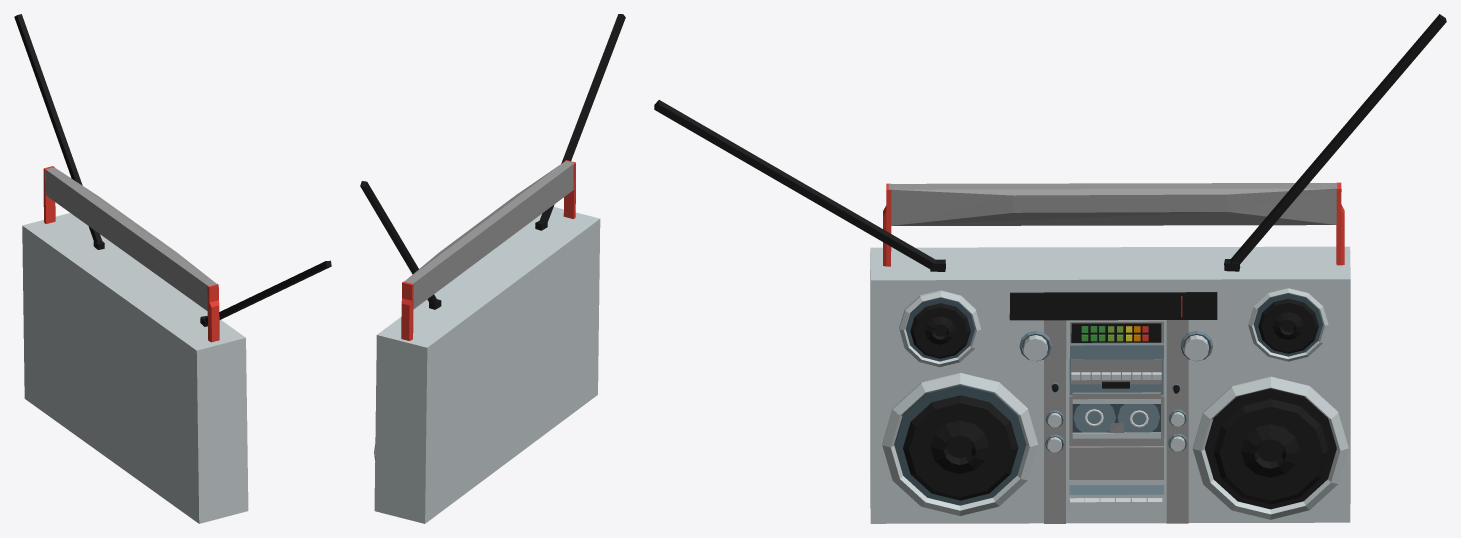
Rendered from radio.obj.
The picture shows the model from 3 angles, left to right: view 1: azimuth 30°, elevation 25°; view 2: azimuth 150°, elevation 25°; view 3: azimuth 270°, elevation 25°; orthographic projection. The views are drawn at different scales.
Parts seen in each view (by area): view 1: group1311925561; view 2: group1311925561; view 3: group1311925561.
Part boxes in pixels (x1,y1,x2,y2): group1311925561: [14, 14, 331, 523]; group1311925561: [360, 14, 625, 523]; group1311925561: [654, 14, 1446, 523].
Bounding box in the file's own units: 0.5303 × 2.68 × 3.91.
